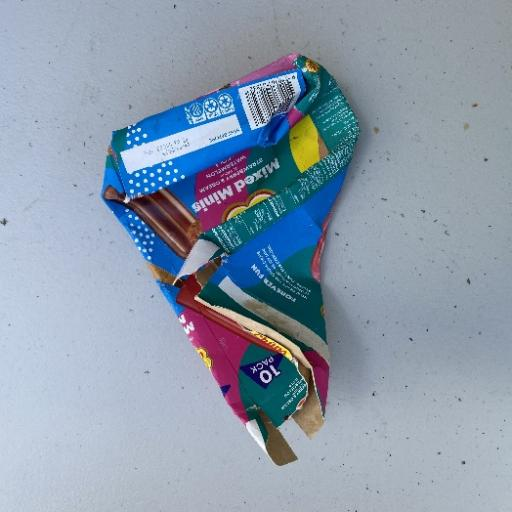Cardboard: (98, 51, 362, 466)
